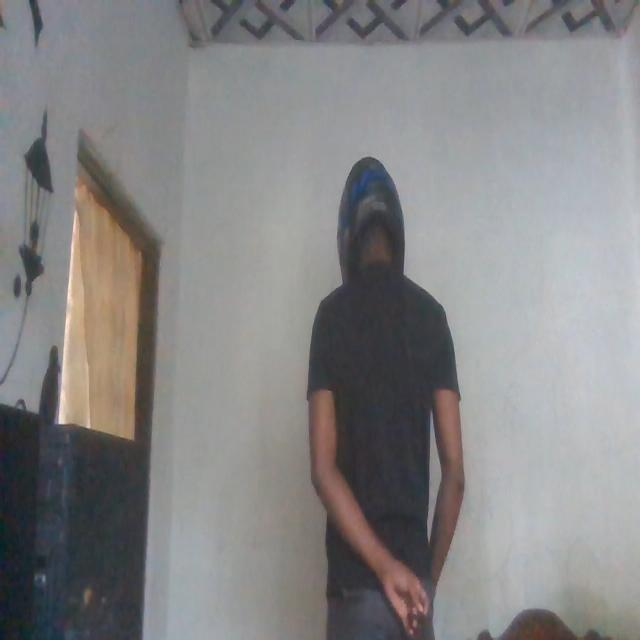Helmet_Wearer: (328, 152, 410, 305)
Person: (298, 150, 462, 640)
